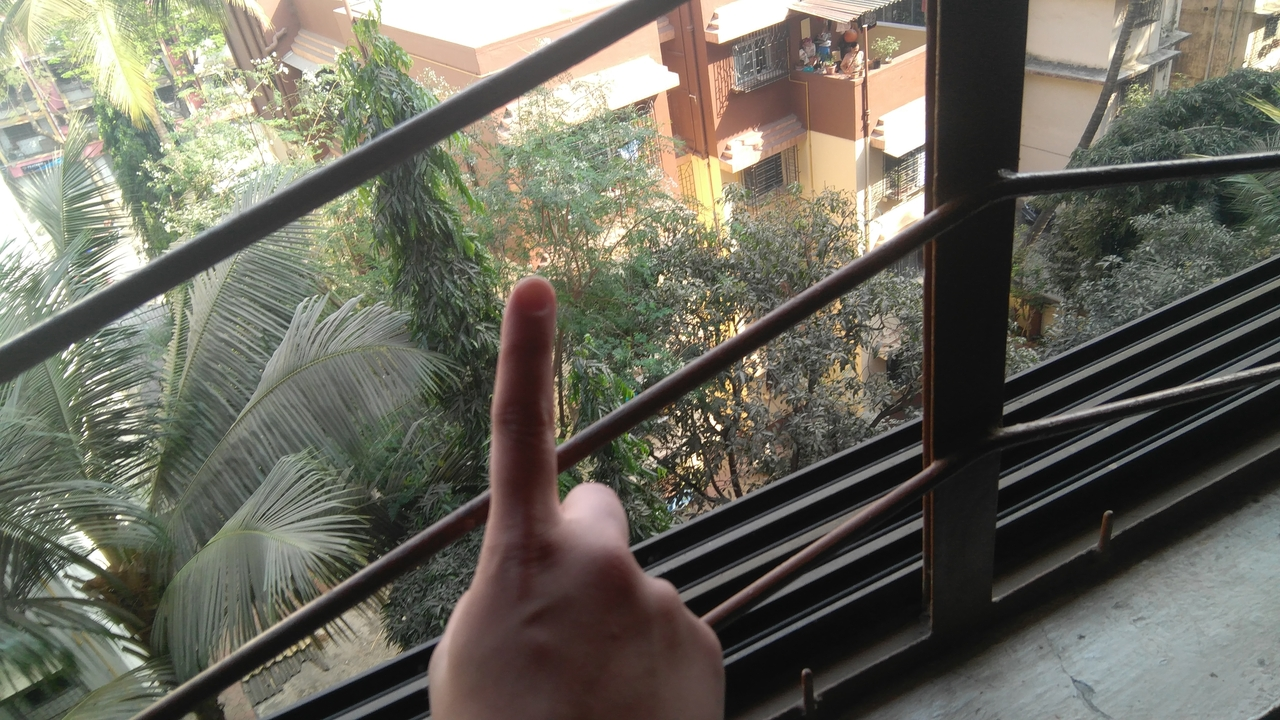fingertip: (500, 274, 556, 332)
